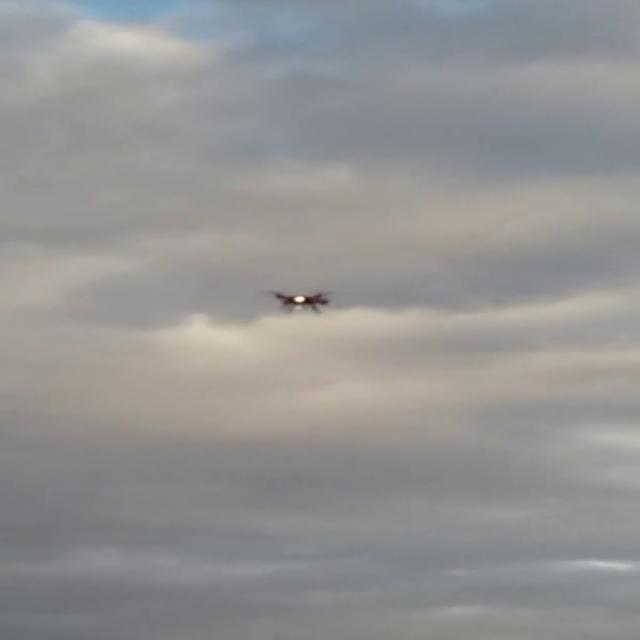drone: (264, 288, 334, 318)
